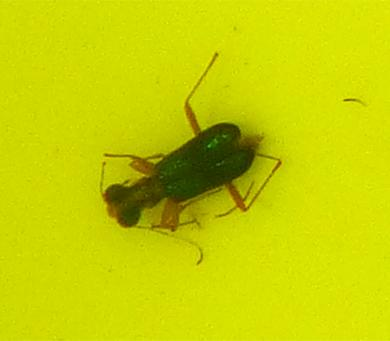Coleoptera: (100, 100, 290, 241)
